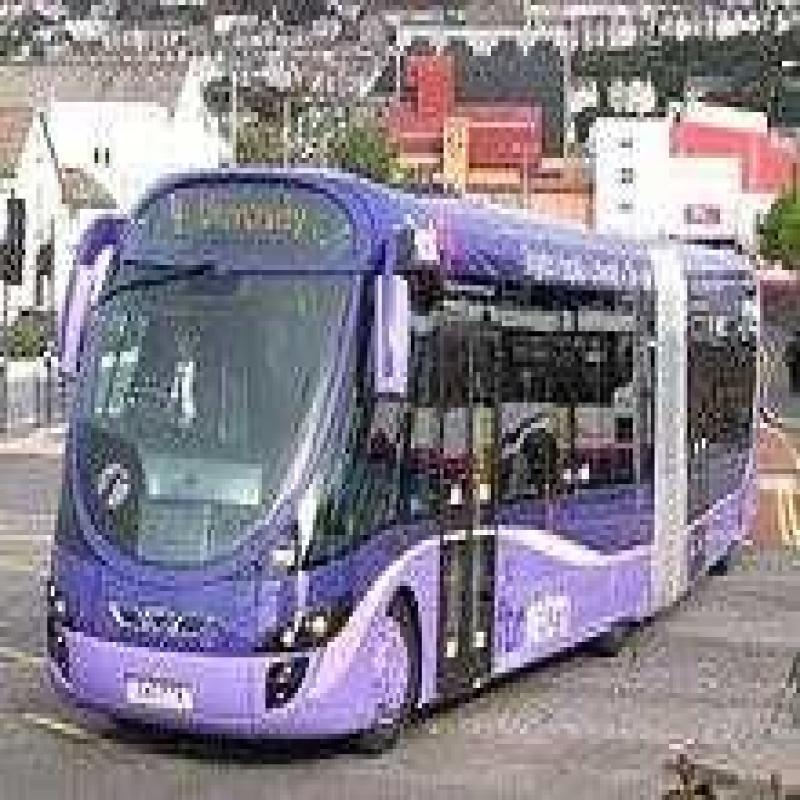bus: (57, 144, 666, 793)
